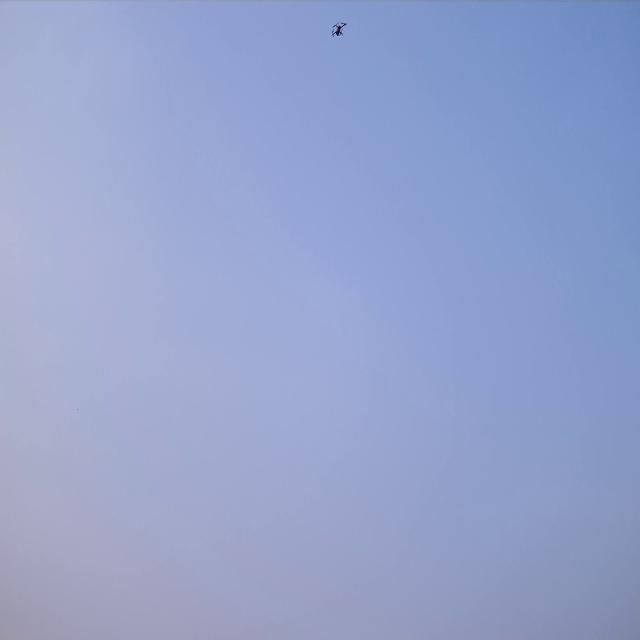UAV: (332, 23, 346, 36)
